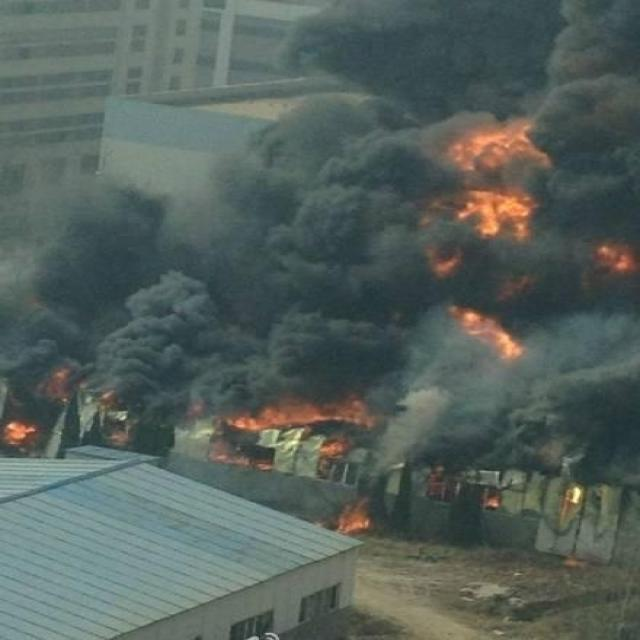Fire: (442, 122, 551, 238), (218, 394, 382, 434), (450, 304, 526, 362), (594, 238, 636, 272), (338, 499, 372, 532), (4, 419, 38, 446)
Smoke: (1, 2, 640, 480)
